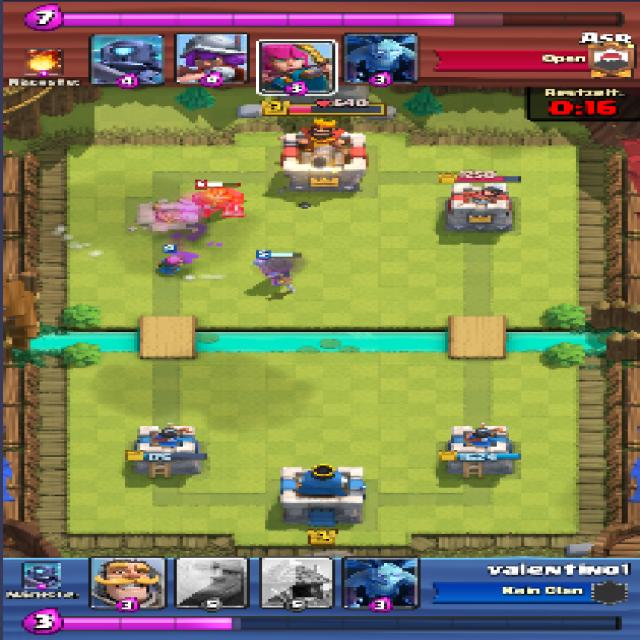Enemy-Hunter: (187, 186, 247, 219)
Player-Archer: (153, 257, 186, 275)
Player-Musketeer: (255, 257, 294, 281)
